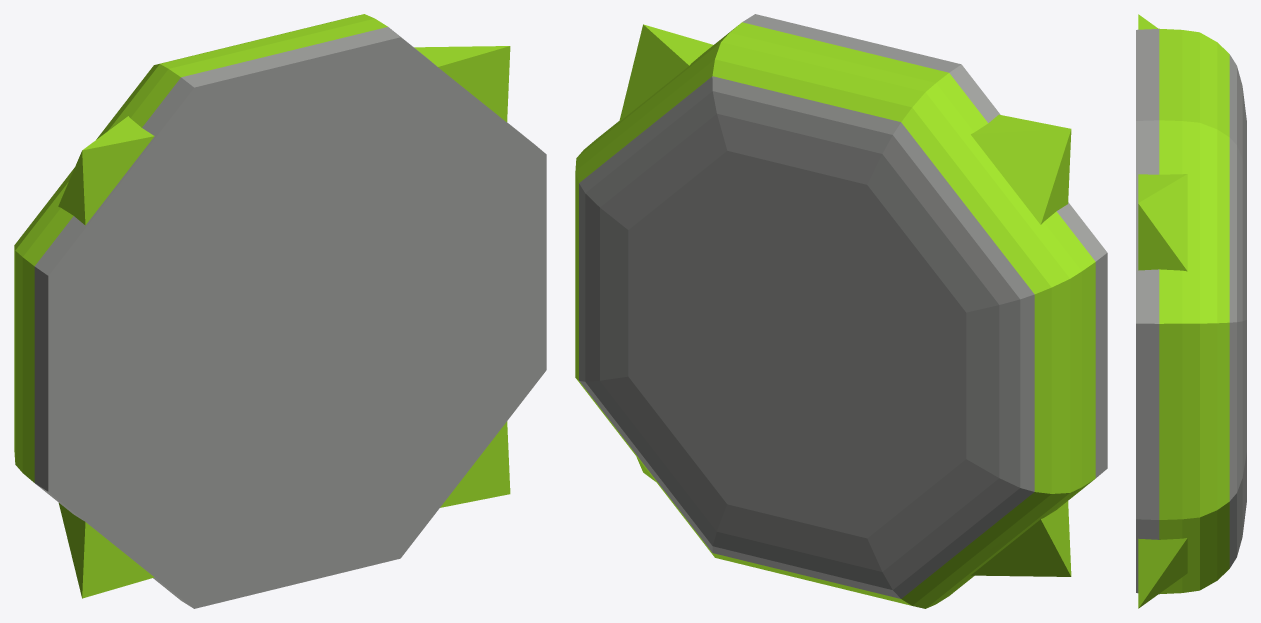
The picture shows the model from 3 angles, left to right: view 1: azimuth 30°, elevation 25°; view 2: azimuth 150°, elevation 25°; view 3: azimuth 270°, elevation 25°; orthographic projection. The views are drawn at different scales.
Visible parts, largest first — view 1: Circle.001; view 2: Circle.001; view 3: Circle.001.
Boxes of the visible parts, bbox=[...] form: Circle.001: bbox=[14, 14, 546, 608]; Circle.001: bbox=[575, 14, 1107, 608]; Circle.001: bbox=[1136, 14, 1246, 608].
Bounding box in the file's own units: 185 × 185 × 39.28.
1 material, 1 textured.
